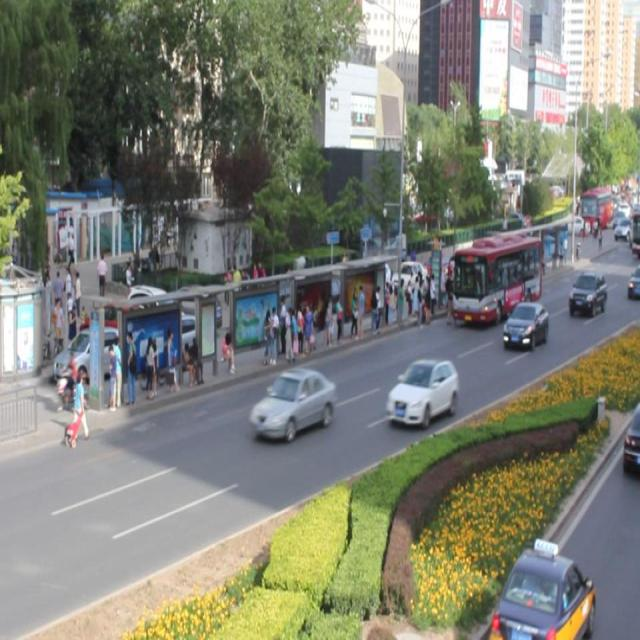car: (249, 366, 336, 440), (384, 356, 456, 426), (502, 301, 547, 350), (566, 270, 605, 317)
van: (447, 232, 538, 326)
